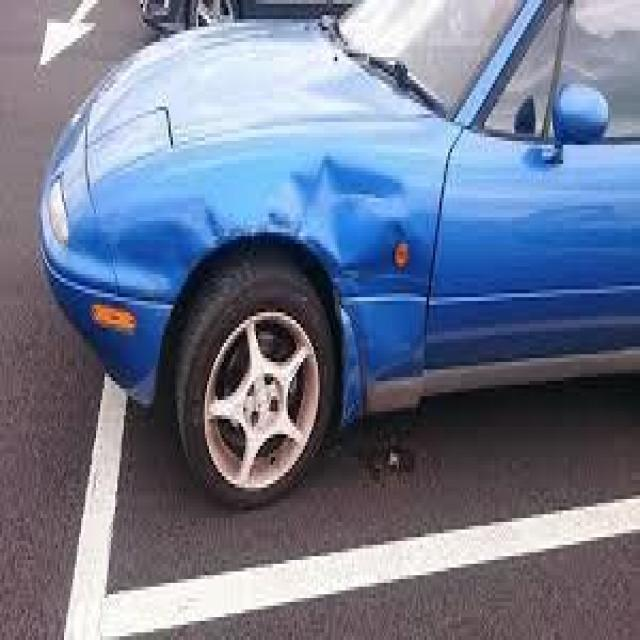damaged: (179, 144, 408, 270), (335, 266, 373, 426)
